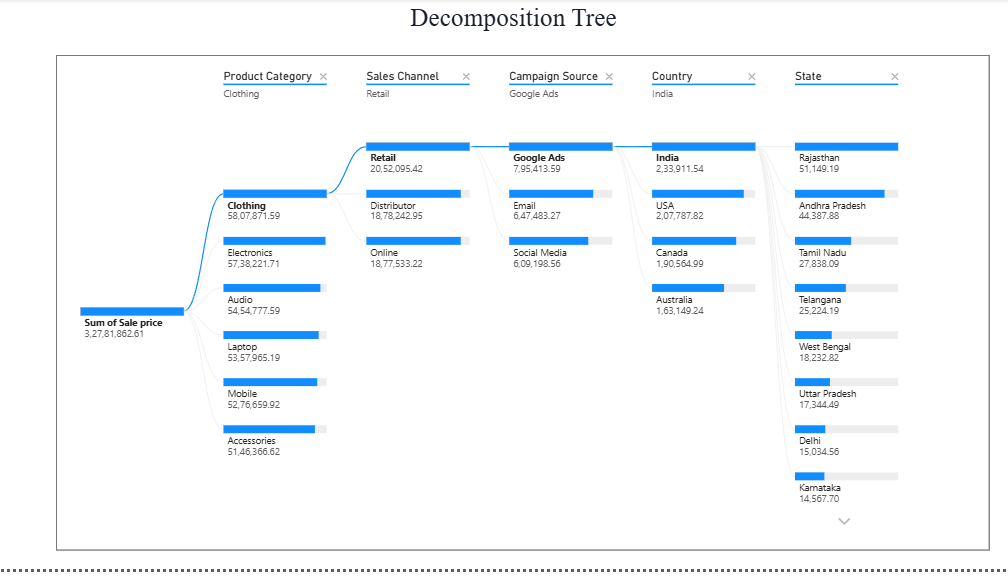

Layout of this report page (visuals, bound fields, positions):
{"tool":"powerbi","page":{"name":"Decomposition Tree - 1","canvas":[1280,720],"ordinal":2},"visuals":[{"type":"textbox","box":[408,0,480,48],"z":0},{"type":"decompositionTreeVisual","fields":{"Analyze":["Sum(Sales_Transactions.Sales Price)"],"ExplainBy":["Sales_Transactions.Product Category","Sales_Transactions.Sales Channel","Sales_Transactions.Campaign Source","Customer_Info.Country","Customer_Info.State"]},"box":[72,72,1176,624],"z":1}]}

Visuals, with their boxes in screenshot pixels (x1, y1, x2, y2), scaled from the page's 1280x720 canvas onto the 1008x576 screenshot:
textbox: <box>321,0,699,38</box>
decompositionTreeVisual - Sum(Sales_Transactions.Sales Price) x Sales_Transactions.Product Category: <box>57,58,983,557</box>
